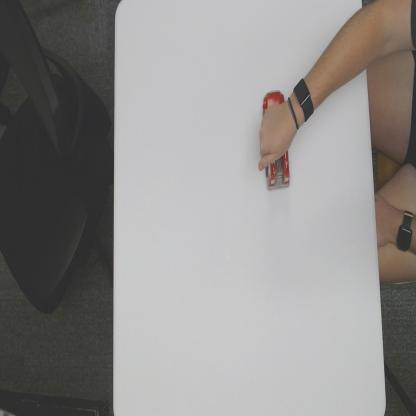Arm: (313, 0, 368, 106)
Firetruck: (261, 90, 291, 191)
Hand: (255, 97, 296, 172)
